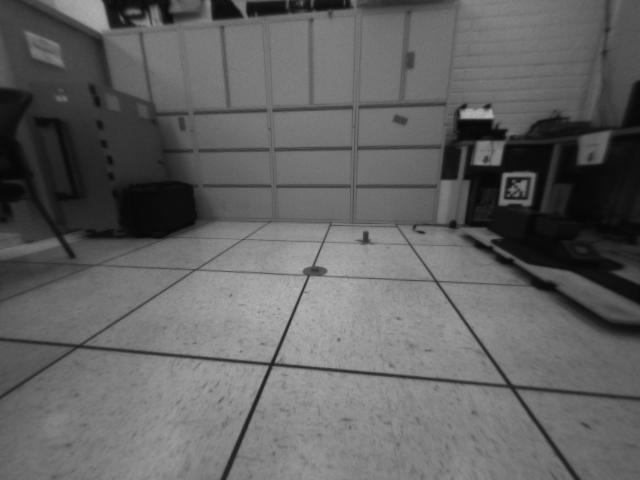X: (356, 229, 376, 246)
